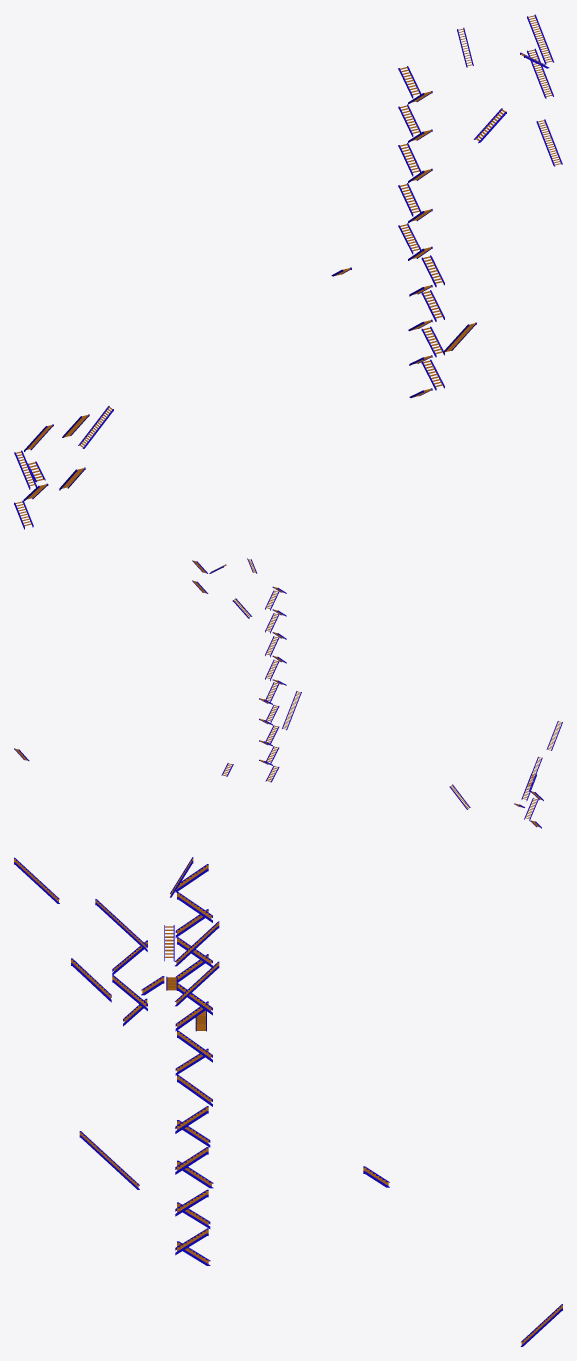
3 renders of one model, top to bottom at view 1: azimuth 30°, elevation 25°; view 2: azimuth 150°, elevation 25°; view 3: azimuth 270°, elevation 25°, orthographic. The views are drawn at different scales.
Parts seen in each view (by area): view 1: Box470; view 2: Box470; view 3: Box470.
Part boxes in pixels (bbox=[...]): Box470: bbox=[14, 14, 562, 529]; Box470: bbox=[14, 558, 562, 828]; Box470: bbox=[14, 857, 562, 1346].
Size of the model in its own units: 9071 by 4476 by 5189.
